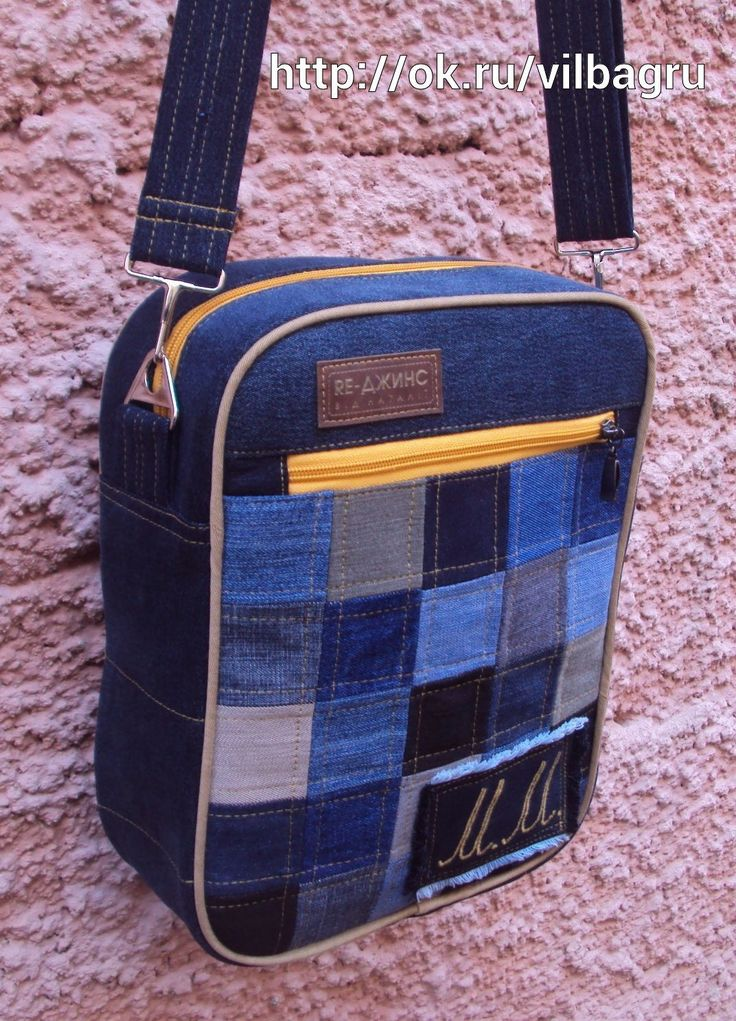cuero: (315, 346, 445, 428)
